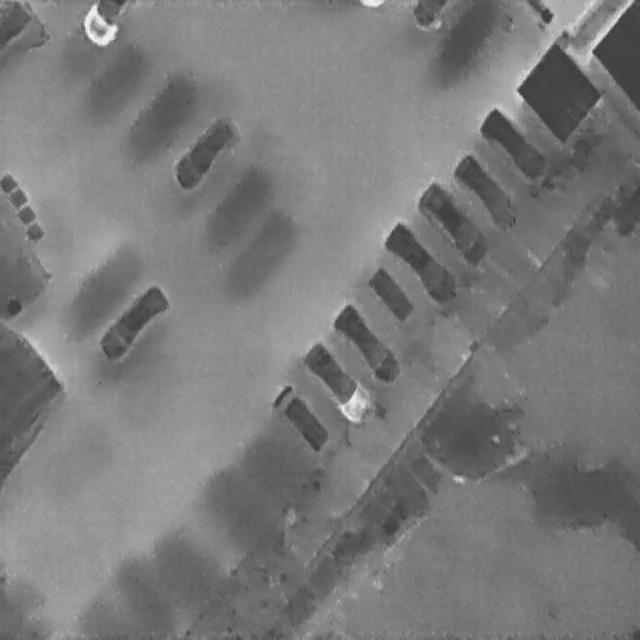Car: (377, 214, 462, 308), (295, 333, 377, 428), (413, 172, 494, 268), (92, 274, 173, 368), (330, 295, 406, 390), (475, 100, 551, 185), (450, 148, 522, 234), (168, 107, 238, 195), (267, 375, 335, 457), (82, 0, 132, 45), (410, 0, 456, 29)
